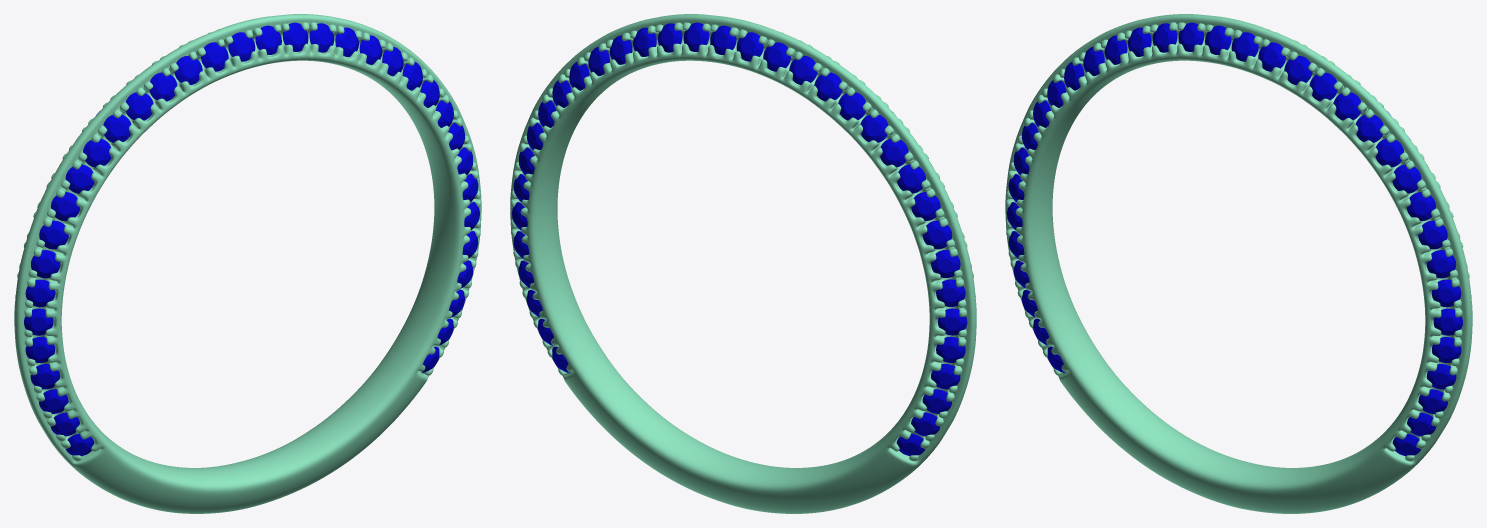
3 renders of one model, left to right at view 1: azimuth 30°, elevation 25°; view 2: azimuth 150°, elevation 25°; view 3: azimuth 330°, elevation 25°, orthographic.
Parts seen in each view (by area): view 1: Metal03, Diamond_Band.064, Diamond_Band.065, Diamond_Band.066, Diamond_Band.062, Diamond_Band.061, Diamond_Band.063, Diamond_Band.068, Diamond_Band.067, Diamond_Band.069, Diamond_Band.070, Diamond_Band.060 (+6 smaller); view 2: Metal03, Diamond_Band.006, Diamond_Band.007, Diamond_Band.005, Diamond_Band.008, Diamond_Band.009, Diamond_Band.003, Diamond_Band.010, Diamond_Band.004, Diamond_Band.002, Diamond_Band.001, Diamond_Band.011 (+6 smaller); view 3: Metal03, Diamond_Band.043, Diamond_Band.042, Diamond_Band.041, Diamond_Band.044, Diamond_Band.046, Diamond_Band.045, Diamond_Band.039, Diamond_Band.040, Diamond_Band.038, Diamond_Band.037, Diamond_Band.047 (+6 smaller).
Boxes of the visible parts, x1,y1,x2,y2 form: Metal03: (14,14,481,513); Diamond_Band.064: (65,164,94,193); Diamond_Band.065: (83,138,111,167); Diamond_Band.066: (103,115,131,142); Diamond_Band.062: (39,220,68,249); Diamond_Band.061: (31,250,60,278); Diamond_Band.063: (51,192,80,220); Diamond_Band.068: (149,72,177,101); Diamond_Band.067: (125,92,153,120); Diamond_Band.069: (174,56,202,84); Diamond_Band.070: (201,42,228,71); Diamond_Band.060: (25,279,55,307); Metal03: (510,14,976,513); Diamond_Band.006: (880,138,908,167); Diamond_Band.007: (897,164,925,193); Diamond_Band.005: (860,114,888,142); Diamond_Band.008: (911,192,940,220); Diamond_Band.009: (922,220,952,249); Diamond_Band.003: (814,72,842,101); Diamond_Band.010: (931,250,960,277); Diamond_Band.004: (838,92,865,120); Diamond_Band.002: (789,55,817,84); Diamond_Band.001: (763,42,790,71); Diamond_Band.011: (936,279,965,306); Metal03: (1005,14,1472,513); Diamond_Band.043: (1392,164,1421,193); Diamond_Band.042: (1375,138,1403,167); Diamond_Band.041: (1355,115,1383,142); Diamond_Band.044: (1406,192,1435,220); Diamond_Band.046: (1426,250,1455,278); Diamond_Band.045: (1418,220,1447,249); Diamond_Band.039: (1309,72,1337,101); Diamond_Band.040: (1333,92,1361,120); Diamond_Band.038: (1284,55,1312,84); Diamond_Band.037: (1258,42,1285,71); Diamond_Band.047: (1431,279,1461,307).
Size of the model in its own units: 20.9 by 20.87 by 2.02.
